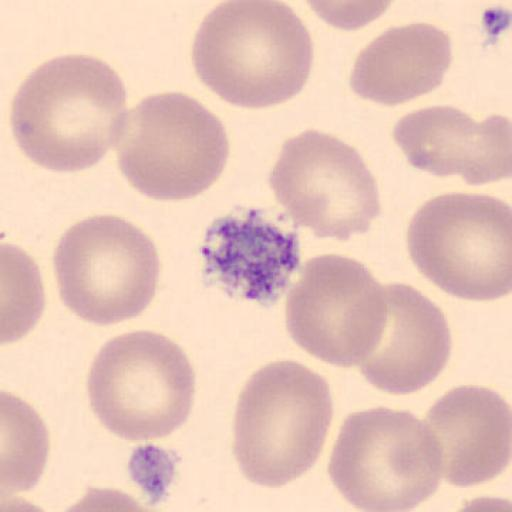Platelet: (196, 203, 305, 308), (124, 440, 183, 508)
RBC: (8, 51, 130, 175), (230, 358, 336, 492), (190, 0, 315, 110), (116, 90, 232, 204), (268, 128, 383, 242), (50, 212, 162, 328), (85, 328, 197, 444), (326, 403, 445, 512), (283, 252, 390, 370), (405, 190, 512, 304), (356, 280, 452, 396), (422, 382, 511, 490), (347, 20, 454, 108), (391, 103, 481, 181), (2, 388, 52, 498), (451, 111, 512, 187), (2, 242, 46, 346), (302, 0, 396, 32), (52, 485, 157, 512), (0, 464, 58, 512), (1, 489, 62, 512), (448, 493, 510, 512)
